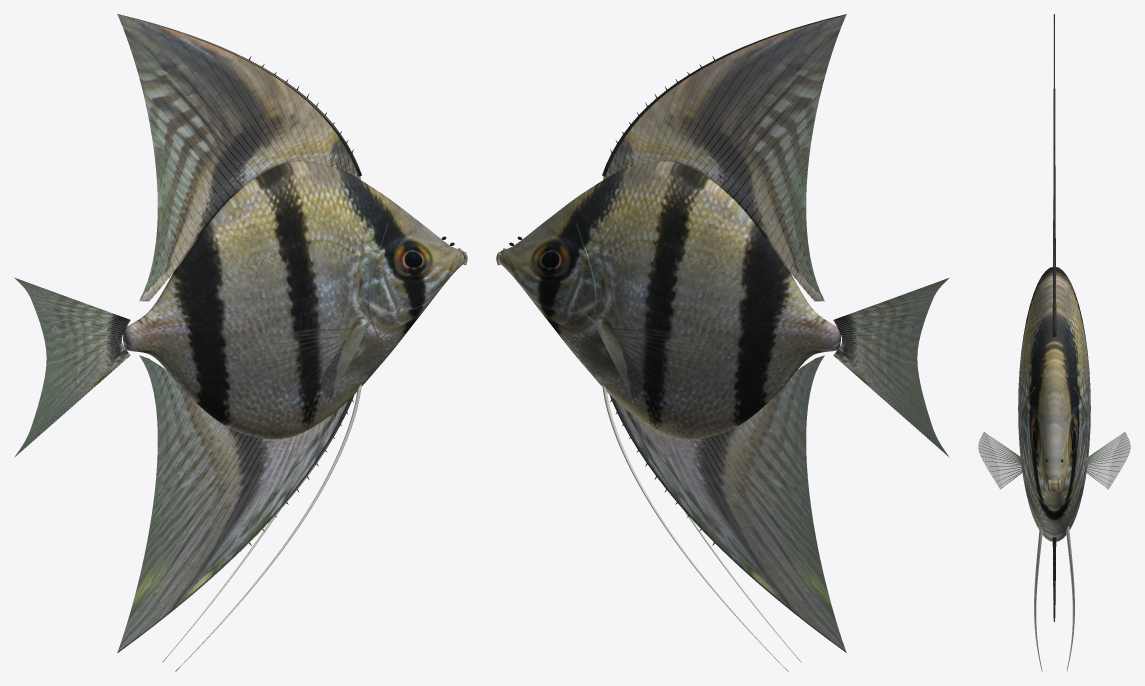
The picture shows the model from 3 angles, left to right: view 1: azimuth 30°, elevation 25°; view 2: azimuth 150°, elevation 25°; view 3: azimuth 270°, elevation 25°; orthographic projection. The views are drawn at different scales.
Parts seen in each view (by area): view 1: Median__Photographic median fin tissue, Body__Silver scales and vertical pigment, Median__Photographic median fin rays, Median__Charcoal leading fin spines, Streamers__Pearl pelvic tissue, PectoralLeft__Translucent fin membranes, PectoralLeft__Fine silver fin rays; view 2: Median__Photographic median fin tissue, Body__Silver scales and vertical pigment, Median__Photographic median fin rays, Median__Charcoal leading fin spines, Streamers__Pearl pelvic tissue, PectoralRight__Translucent fin membranes, PectoralRight__Fine silver fin rays; view 3: Body__Silver scales and vertical pigment, PectoralLeft__Translucent fin membranes, PectoralRight__Translucent fin membranes, Median__Charcoal leading fin spines, Streamers__Pearl pelvic tissue, PectoralLeft__Fine silver fin rays, PectoralRight__Fine silver fin rays, Body__Gill fold shadows, Median__Warm pearl leading edge.
Part boxes in pixels (x1,y1,x2,y2): Median__Photographic median fin tissue: (15, 15, 360, 651); Body__Silver scales and vertical pigment: (123, 161, 467, 439); Median__Photographic median fin rays: (14, 15, 360, 649); Median__Charcoal leading fin spines: (117, 14, 361, 652); Streamers__Pearl pelvic tissue: (162, 384, 361, 671); PectoralLeft__Translucent fin membranes: (320, 325, 366, 398); PectoralLeft__Fine silver fin rays: (321, 315, 376, 397); Median__Photographic median fin tissue: (603, 15, 948, 651); Body__Silver scales and vertical pigment: (496, 161, 840, 439); Median__Photographic median fin rays: (603, 15, 949, 651); Median__Charcoal leading fin spines: (602, 14, 846, 652); Streamers__Pearl pelvic tissue: (602, 384, 801, 671); PectoralRight__Translucent fin membranes: (598, 325, 643, 398); PectoralRight__Fine silver fin rays: (587, 315, 642, 397); Body__Silver scales and vertical pigment: (1018, 267, 1090, 541); PectoralLeft__Translucent fin membranes: (978, 432, 1023, 488); PectoralRight__Translucent fin membranes: (1085, 432, 1130, 488); Median__Charcoal leading fin spines: (1052, 14, 1056, 621); Streamers__Pearl pelvic tissue: (1034, 526, 1074, 671); PectoralLeft__Fine silver fin rays: (979, 432, 1026, 489); PectoralRight__Fine silver fin rays: (1082, 432, 1129, 489); Body__Gill fold shadows: (1021, 387, 1087, 509); Median__Warm pearl leading edge: (1053, 14, 1053, 621).
Bounding box in the file's own units: 2.1 × 2.96 × 0.6458.
Materials: 10 (5 with a texture image).
